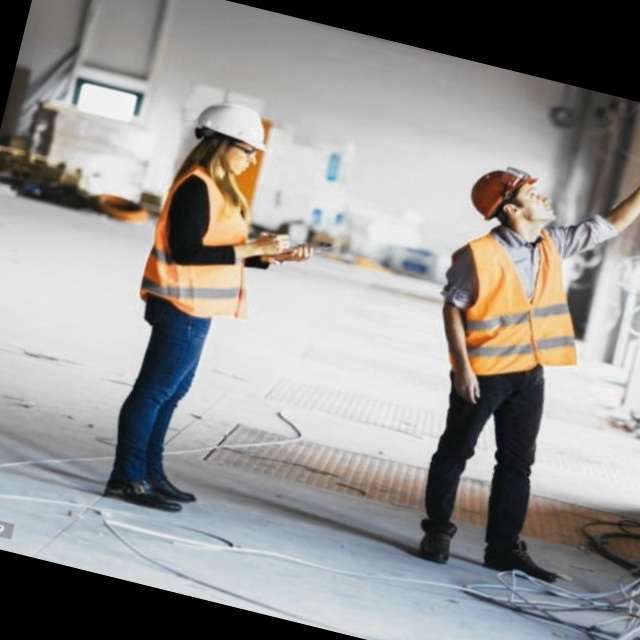Con_Casco: (187, 95, 275, 181)
Con_Chaleco: (424, 213, 591, 399), (134, 159, 282, 326)
